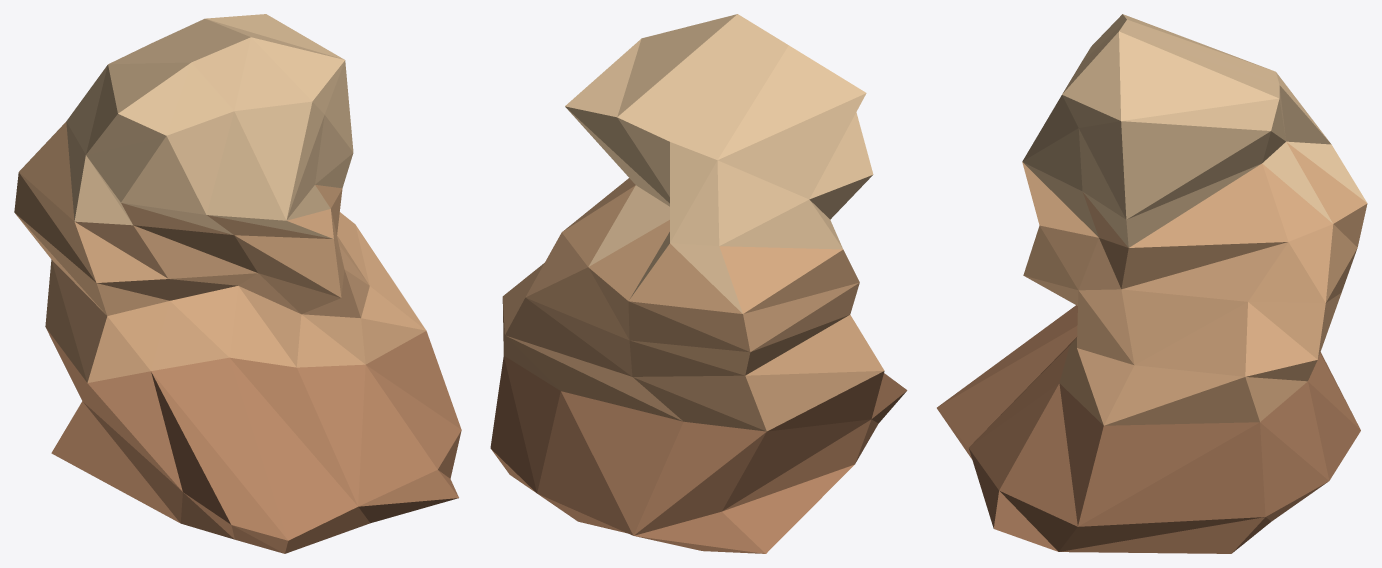
Rendered from canyon-1-4.glb.
3 views of the same model, side by side, from view 1: azimuth 30°, elevation 25°; view 2: azimuth 150°, elevation 25°; view 3: azimuth 270°, elevation 25° (orthographic). The views are drawn at different scales.
Visible parts, largest first — view 1: canyon-1-4; view 2: canyon-1-4; view 3: canyon-1-4.
Part boxes in pixels (x1=…): canyon-1-4: x1=14, y1=14, x2=461, y2=553; canyon-1-4: x1=490, y1=14, x2=907, y2=553; canyon-1-4: x1=937, y1=14, x2=1367, y2=553.
Size of the model in its own units: 21.19 by 28 by 23.89.
